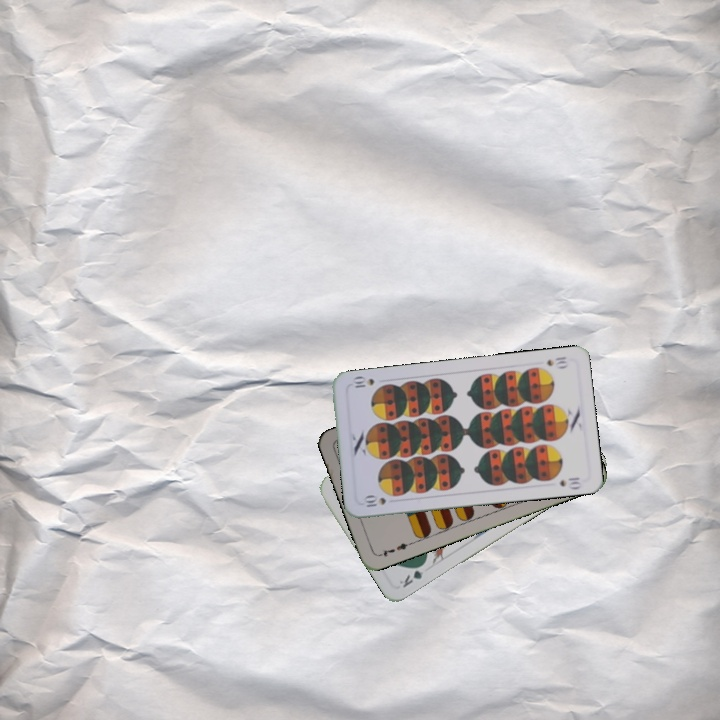E7: (375, 538, 414, 559)
GK: (395, 559, 428, 590)
S10: (542, 352, 571, 371), (360, 492, 388, 510)
